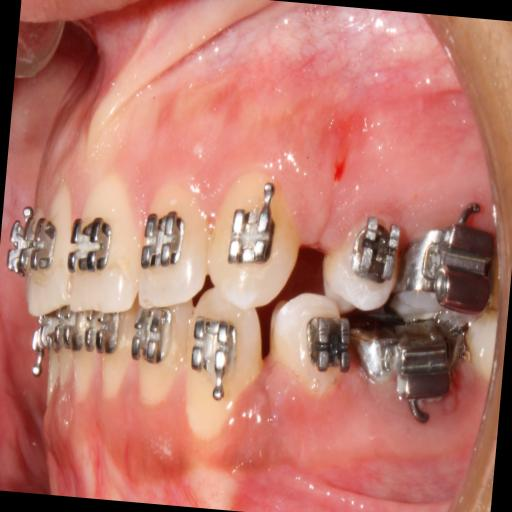correct_brace: (266, 289, 358, 401), (318, 210, 411, 315), (222, 180, 286, 277), (188, 312, 243, 400), (138, 190, 188, 284), (66, 203, 121, 284), (303, 308, 352, 376)
incorrect_brace: (135, 180, 213, 312), (348, 216, 403, 284)
